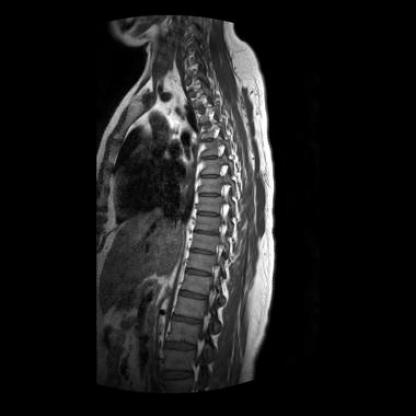Demyelinating Plaquesrotation: (200, 209, 221, 221), (197, 136, 218, 146)
Hemangiomatarotation: (189, 253, 214, 272), (195, 125, 215, 138)
